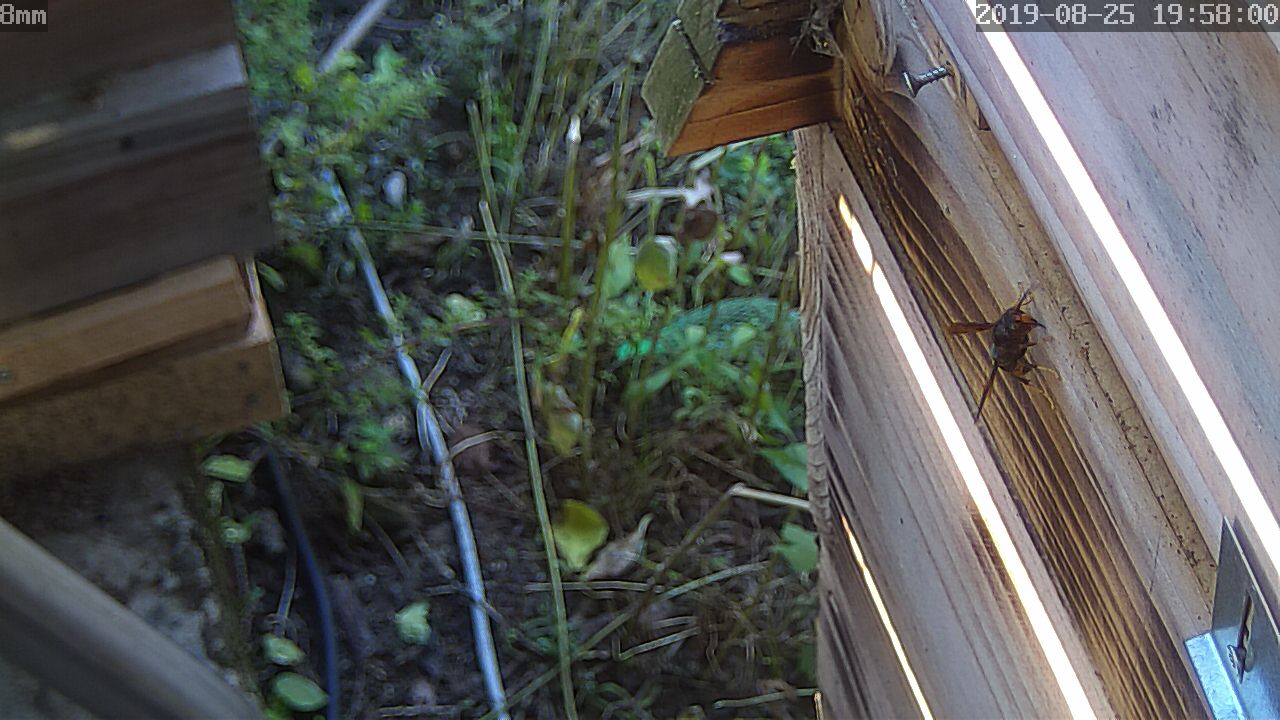hornet: (982, 290, 1053, 401)
